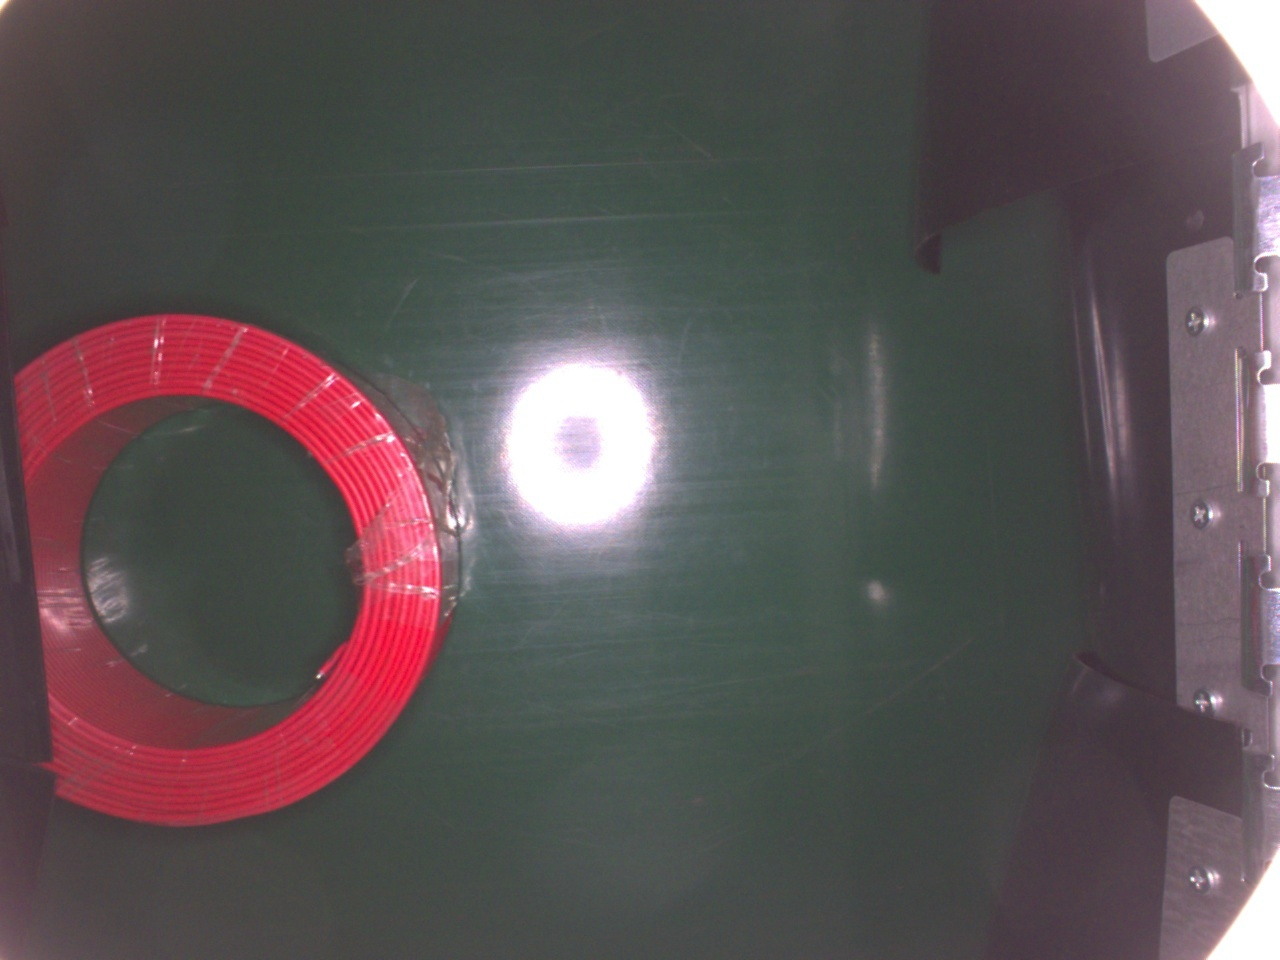red: (12, 308, 465, 827)
